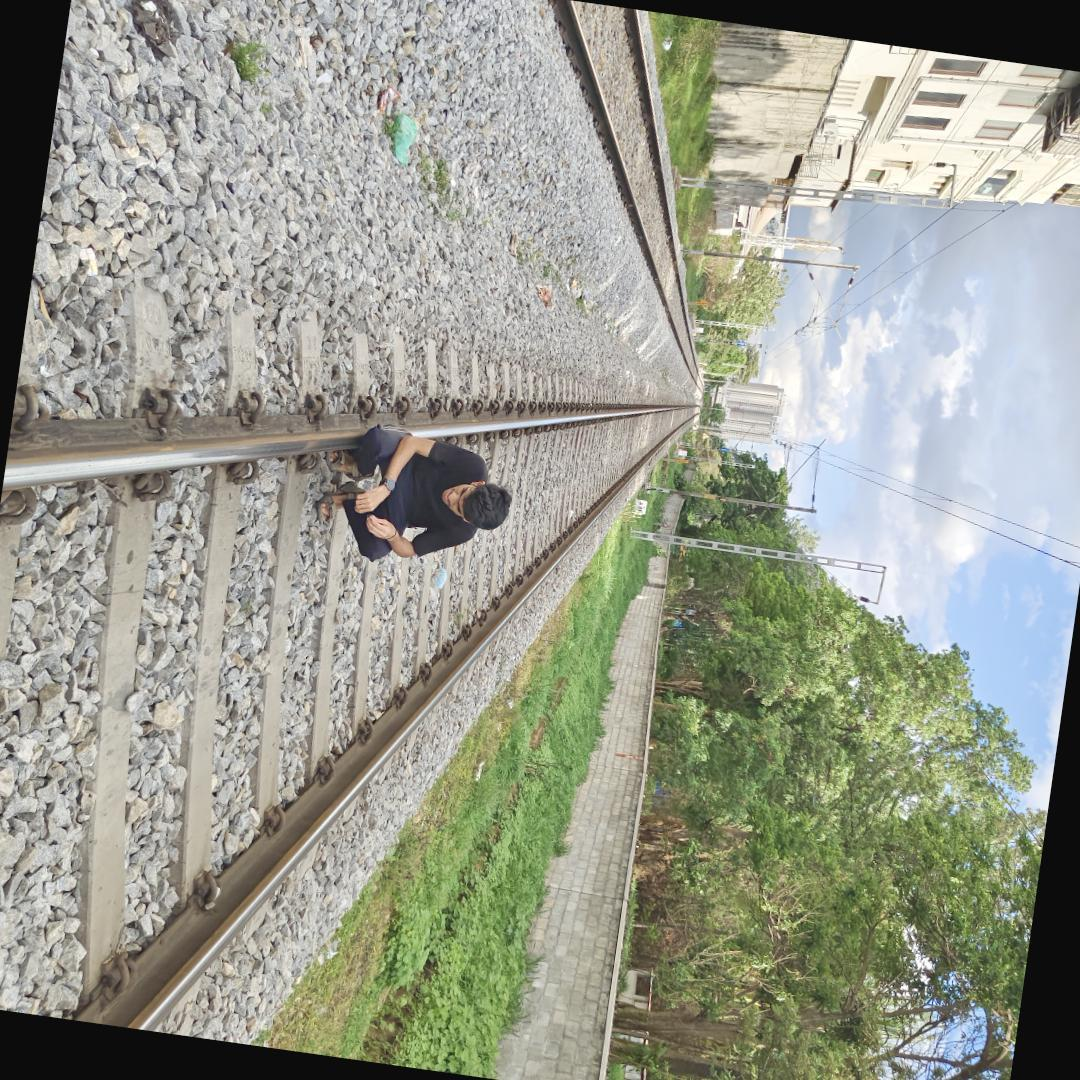sitting: (308, 400, 530, 591)
